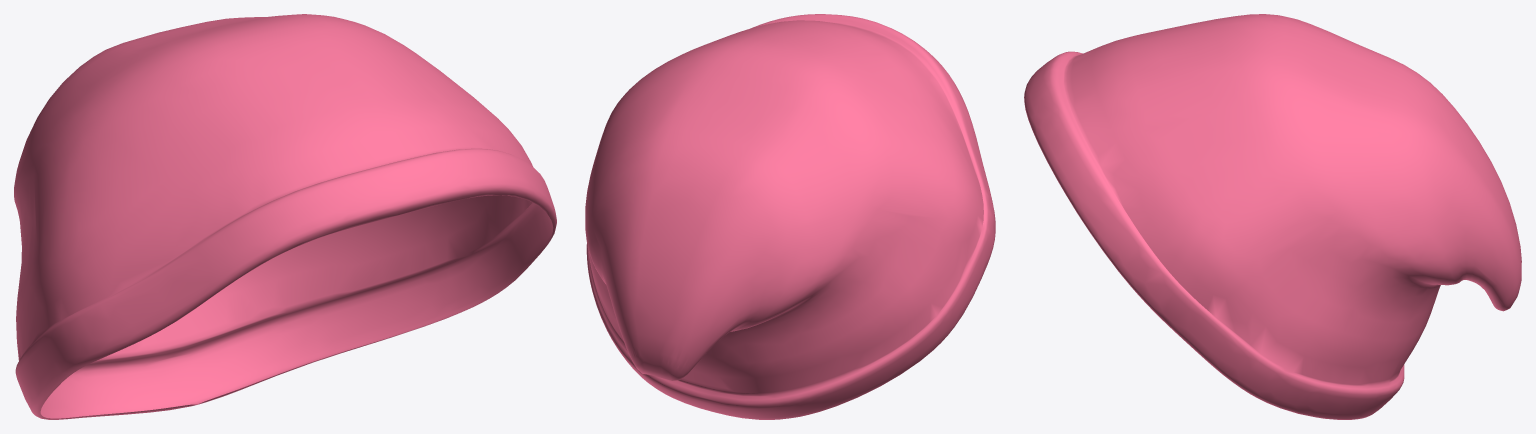
File: headwear-beanie-pink-4ebeee14.glb
3 views of the same model, side by side, from view 1: azimuth 30°, elevation 25°; view 2: azimuth 150°, elevation 25°; view 3: azimuth 270°, elevation 25° (orthographic). The views are drawn at different scales.
Visible parts, largest first — view 1: beanie_pink.001; view 2: beanie_pink.001; view 3: beanie_pink.001.
Boxes of the visible parts, x1=… form: beanie_pink.001: x1=14, y1=14, x2=556, y2=419; beanie_pink.001: x1=585, y1=14, x2=995, y2=419; beanie_pink.001: x1=1024, y1=14, x2=1521, y2=419.
Bounding box in the file's own units: 2.35 × 1.95 × 2.5.
